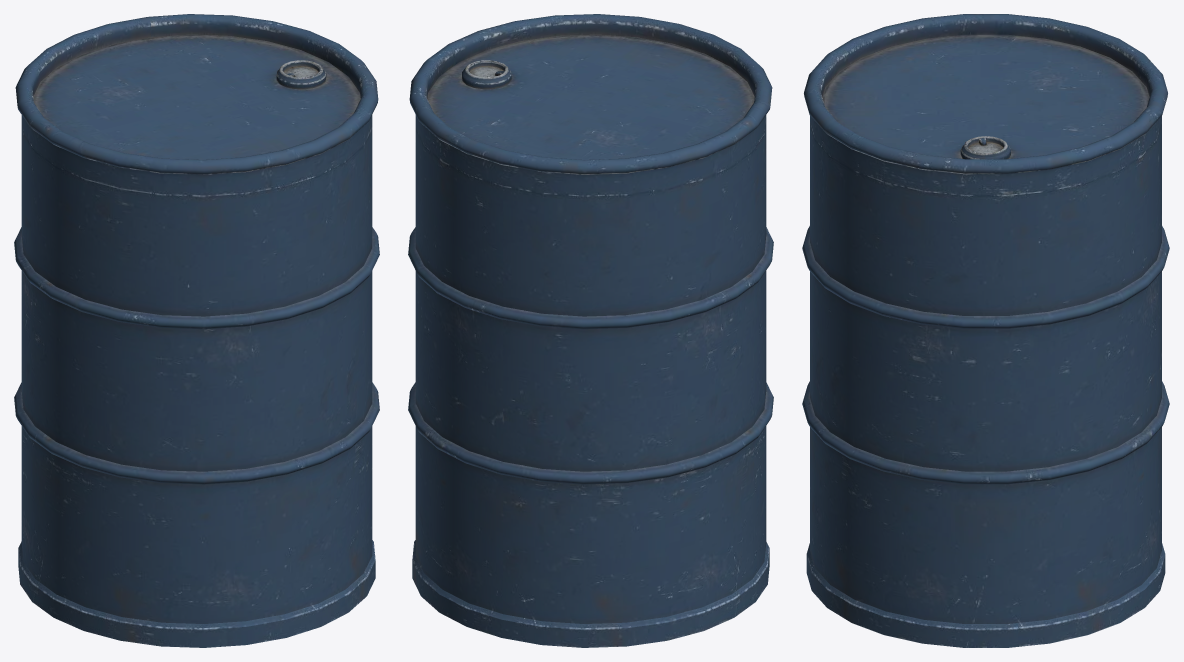
Rendered from barrel_03.glb.
3 views of the same model, side by side, from view 1: azimuth 30°, elevation 25°; view 2: azimuth 150°, elevation 25°; view 3: azimuth 270°, elevation 25° (orthographic).
Parts seen in each view (by area): view 1: barrel_03; view 2: barrel_03; view 3: barrel_03.
Boxes of the visible parts, x1,y1,x2,y2 form: barrel_03: (14,14,379,647); barrel_03: (408,14,773,647); barrel_03: (802,14,1169,647).
Bounding box in the file's own units: 0.634 × 0.9305 × 0.6386.
1 material, 1 textured.
